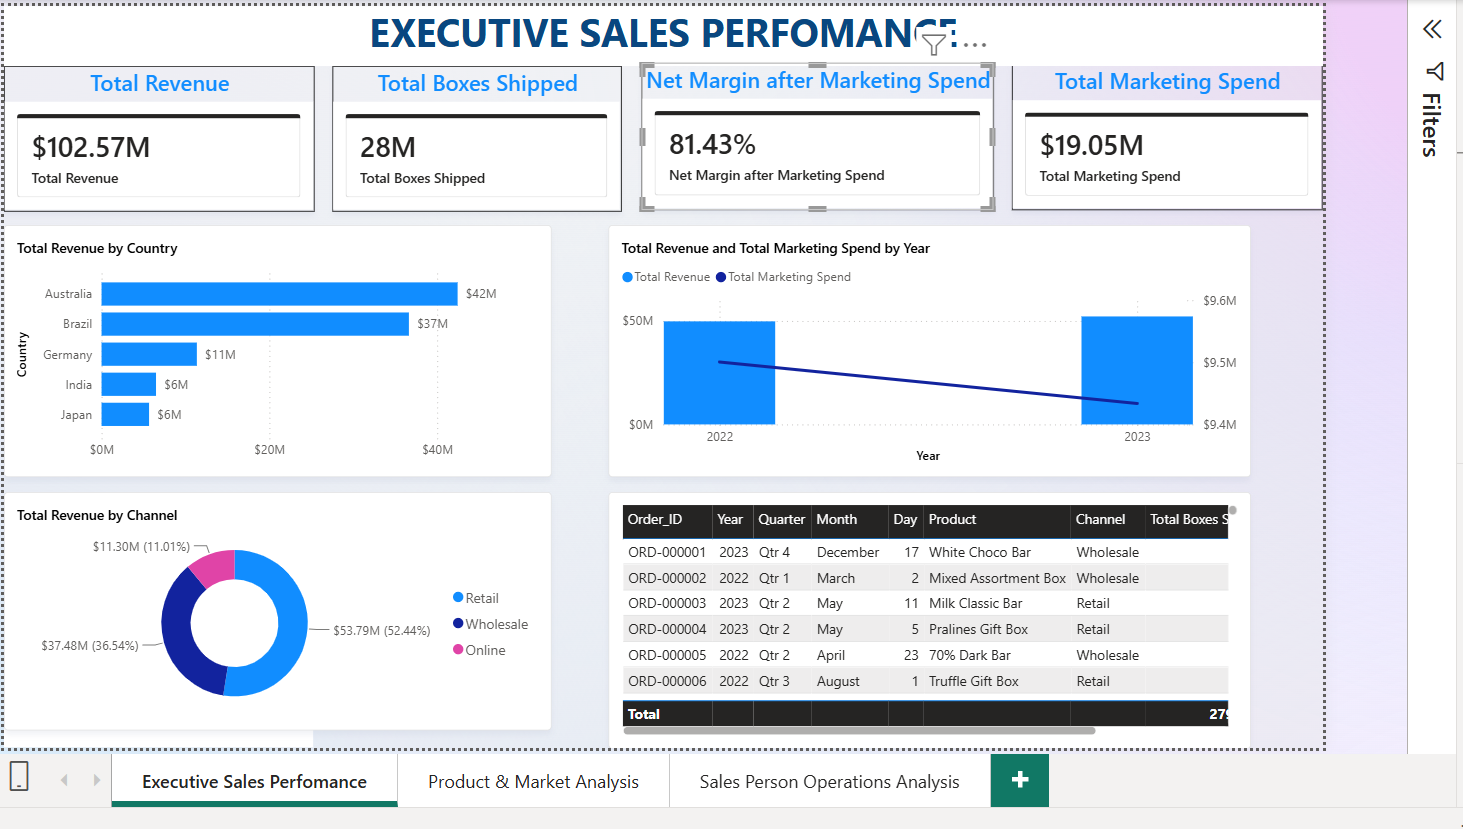

This screenshot's page, from the dashboard's own definition file:
{"tool":"powerbi","page":{"name":"Executive Sales Perfomance","canvas":[1280,720],"ordinal":0},"visuals":[{"type":"cardVisual","title":"Total Boxes Shipped","fields":{"Data":["Chocolate_Sales.Total Boxes Shipped"]},"box":[318.8,58.2,280.9,141.2],"z":0},{"type":"cardVisual","title":"Net Margin after Marketing Spend","fields":{"Data":["Chocolate_Sales.Gross Profit Margin"]},"box":[618.6,55.3,342.1,142.6],"z":1000},{"type":"cardVisual","title":"Total Marketing Spend","fields":{"Data":["Chocolate_Sales.Total Marketing Spend"]},"box":[978.1,56.8,301.3,141.2],"z":2000},{"type":"cardVisual","title":"Total Revenue","fields":{"Data":["Chocolate_Sales.Total Revenue"]},"box":[0,58.2,301.3,141.2],"z":3000},{"type":"textbox","box":[0,532,300,188],"z":4000},{"type":"textbox","title":"EXECUTIVE SALES PERFOMANCE","box":[0,0,1279.2,58.3],"z":5000},{"type":"clusteredBarChart","fields":{"Category":["Chocolate_Sales.Country"],"Y":["Chocolate_Sales.Total Revenue"]},"box":[0,212.1,531.1,244.5],"z":6000},{"type":"donutChart","fields":{"Category":["Chocolate_Sales.Channel"],"Y":["Chocolate_Sales.Total Revenue"]},"box":[0,471.2,531.1,231.5],"z":7000},{"type":"tableEx","fields":{"Values":["Chocolate_Sales.Order_ID","Chocolate_Sales.Order_Date.Variation.Date Hierarchy.Year","Chocolate_Sales.Order_Date.Variation.Date Hierarchy.Quarter","Chocolate_Sales.Order_Date.Variation.Date Hierarchy.Month","Chocolate_Sales.Order_Date.Variation.Date Hierarchy.Day","Chocolate_Sales.Product","Chocolate_Sales.Channel","Chocolate_Sales.Total Boxes Shipped","Chocolate_Sales.Total Revenue"]},"box":[586.2,471.2,623.4,249.4],"z":8000},{"type":"lineStackedColumnComboChart","fields":{"Category":["Chocolate_Sales.Order_Date.Variation.Date Hierarchy.Year","Chocolate_Sales.Order_Date.Variation.Date Hierarchy.Quarter","Chocolate_Sales.Order_Date.Variation.Date Hierarchy.Month","Chocolate_Sales.Order_Date.Variation.Date Hierarchy.Day"],"Y":["Chocolate_Sales.Total Revenue"],"Y2":["Chocolate_Sales.Total Marketing Spend"]},"box":[586.2,212.1,623.4,244.5],"z":9000}]}

Visuals, with their boxes on the page's 1280x720 design canvas (x1, y1, x2, y2). These are canvas units, not pixel positions in the 1463x829 screenshot, which may show the page scaled, cropped or inside an application window:
"Total Boxes Shipped" cardVisual: l=319, t=58, r=600, b=199
"Net Margin after Marketing Spend" cardVisual: l=619, t=55, r=961, b=198
"Total Marketing Spend" cardVisual: l=978, t=57, r=1279, b=198
"Total Revenue" cardVisual: l=0, t=58, r=301, b=199
textbox: l=0, t=532, r=300, b=720
"EXECUTIVE SALES PERFOMANCE" textbox: l=0, t=0, r=1279, b=58
clusteredBarChart - Chocolate_Sales.Country x Chocolate_Sales.Total Revenue: l=0, t=212, r=531, b=457
donutChart - Chocolate_Sales.Channel x Chocolate_Sales.Total Revenue: l=0, t=471, r=531, b=703
tableEx - Chocolate_Sales.Order_ID x Chocolate_Sales.Order_Date.Variation.Date Hierarchy.Year: l=586, t=471, r=1210, b=721
lineStackedColumnComboChart - Chocolate_Sales.Order_Date.Variation.Date Hierarchy.Year x Chocolate_Sales.Order_Date.Variation.Date Hierarchy.Quarter: l=586, t=212, r=1210, b=457
